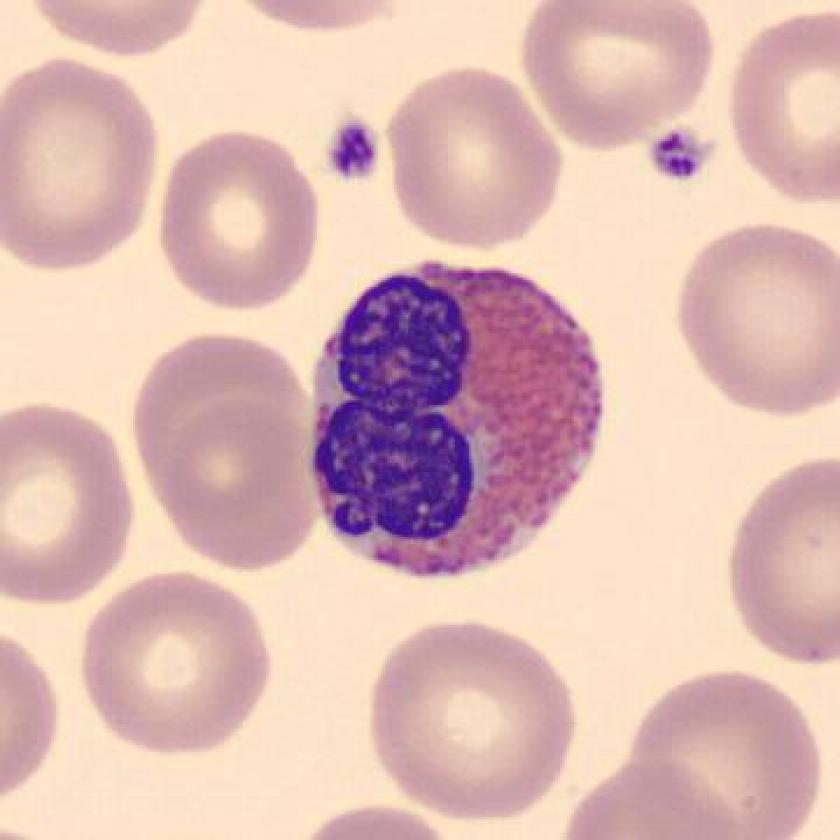eosinophil: (293, 256, 622, 589)
